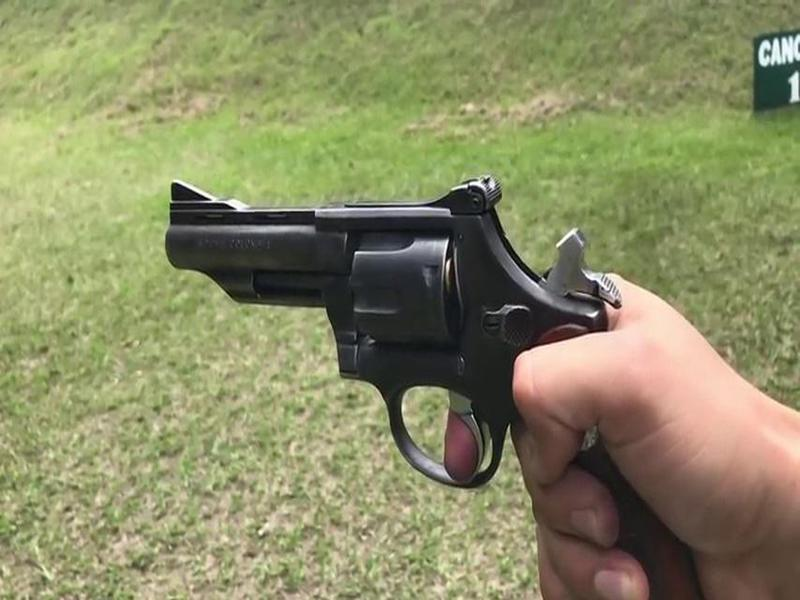Revolver: (148, 153, 650, 599)
